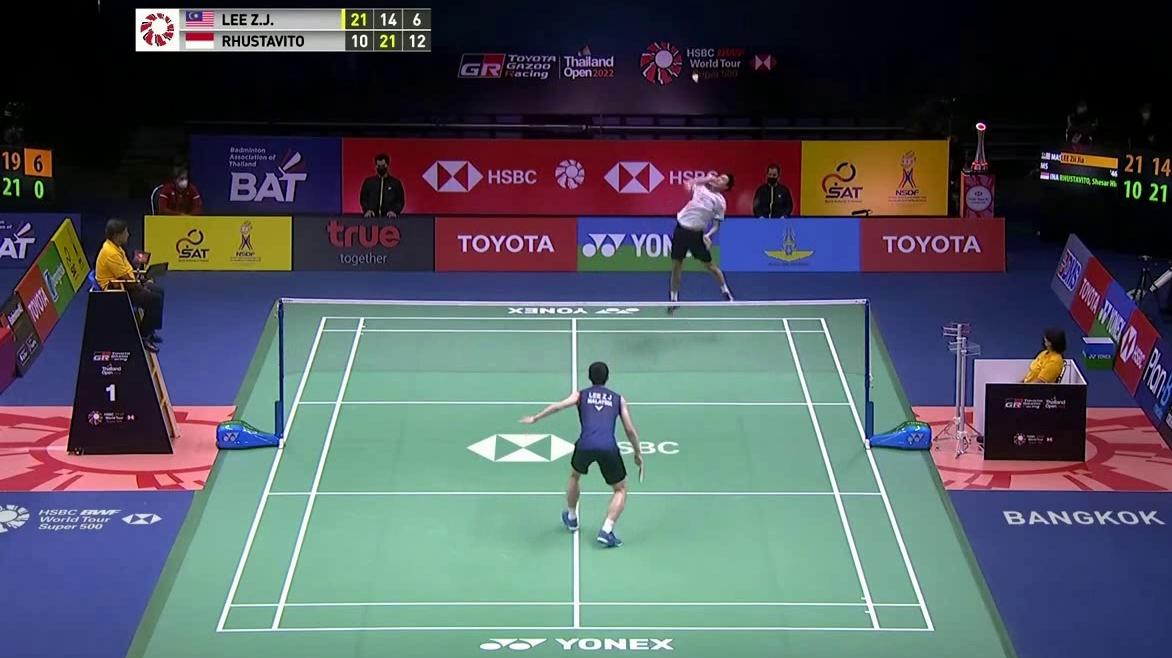racket: (710, 175, 758, 214), (632, 456, 652, 487)
shuttle: (690, 72, 701, 84)
